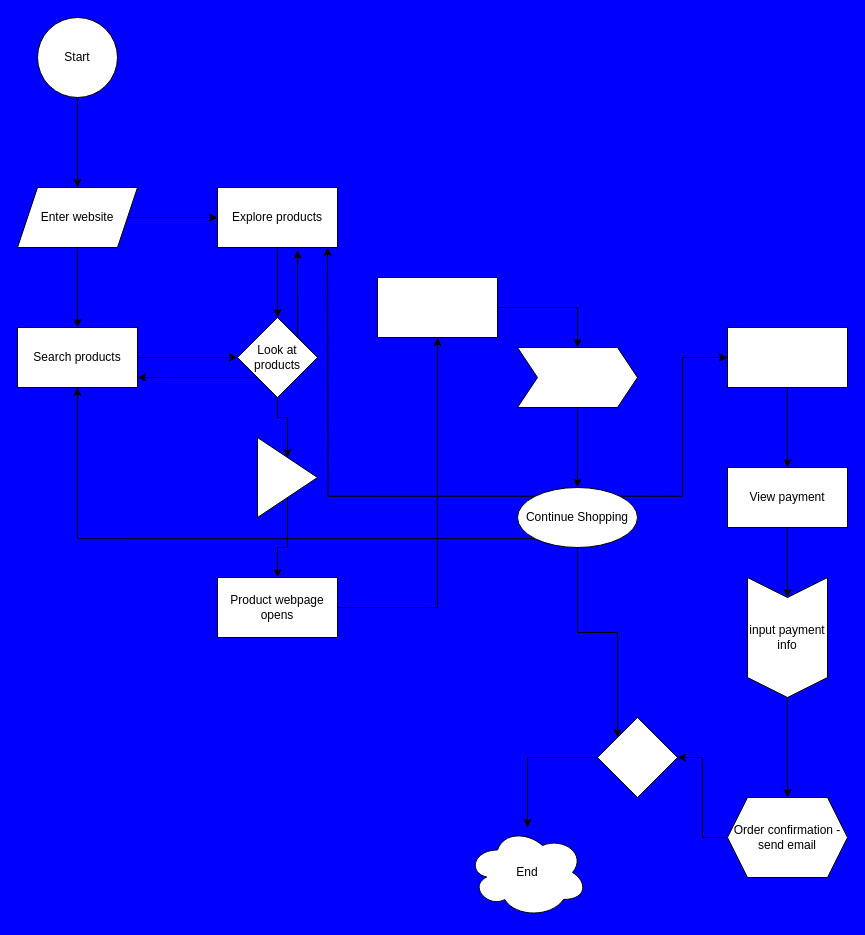
Some shapes in this 865 by 935 pixel diagram are drawn without their labels. Each missing label, with the centre of its shape:
"Add to cart" goes at [437,307].
"added to cart confirmation" goes at [577,377].
"User leaves website" goes at [637,757].
"View cart" goes at [787,357].
"View specific product" goes at [287,477].
